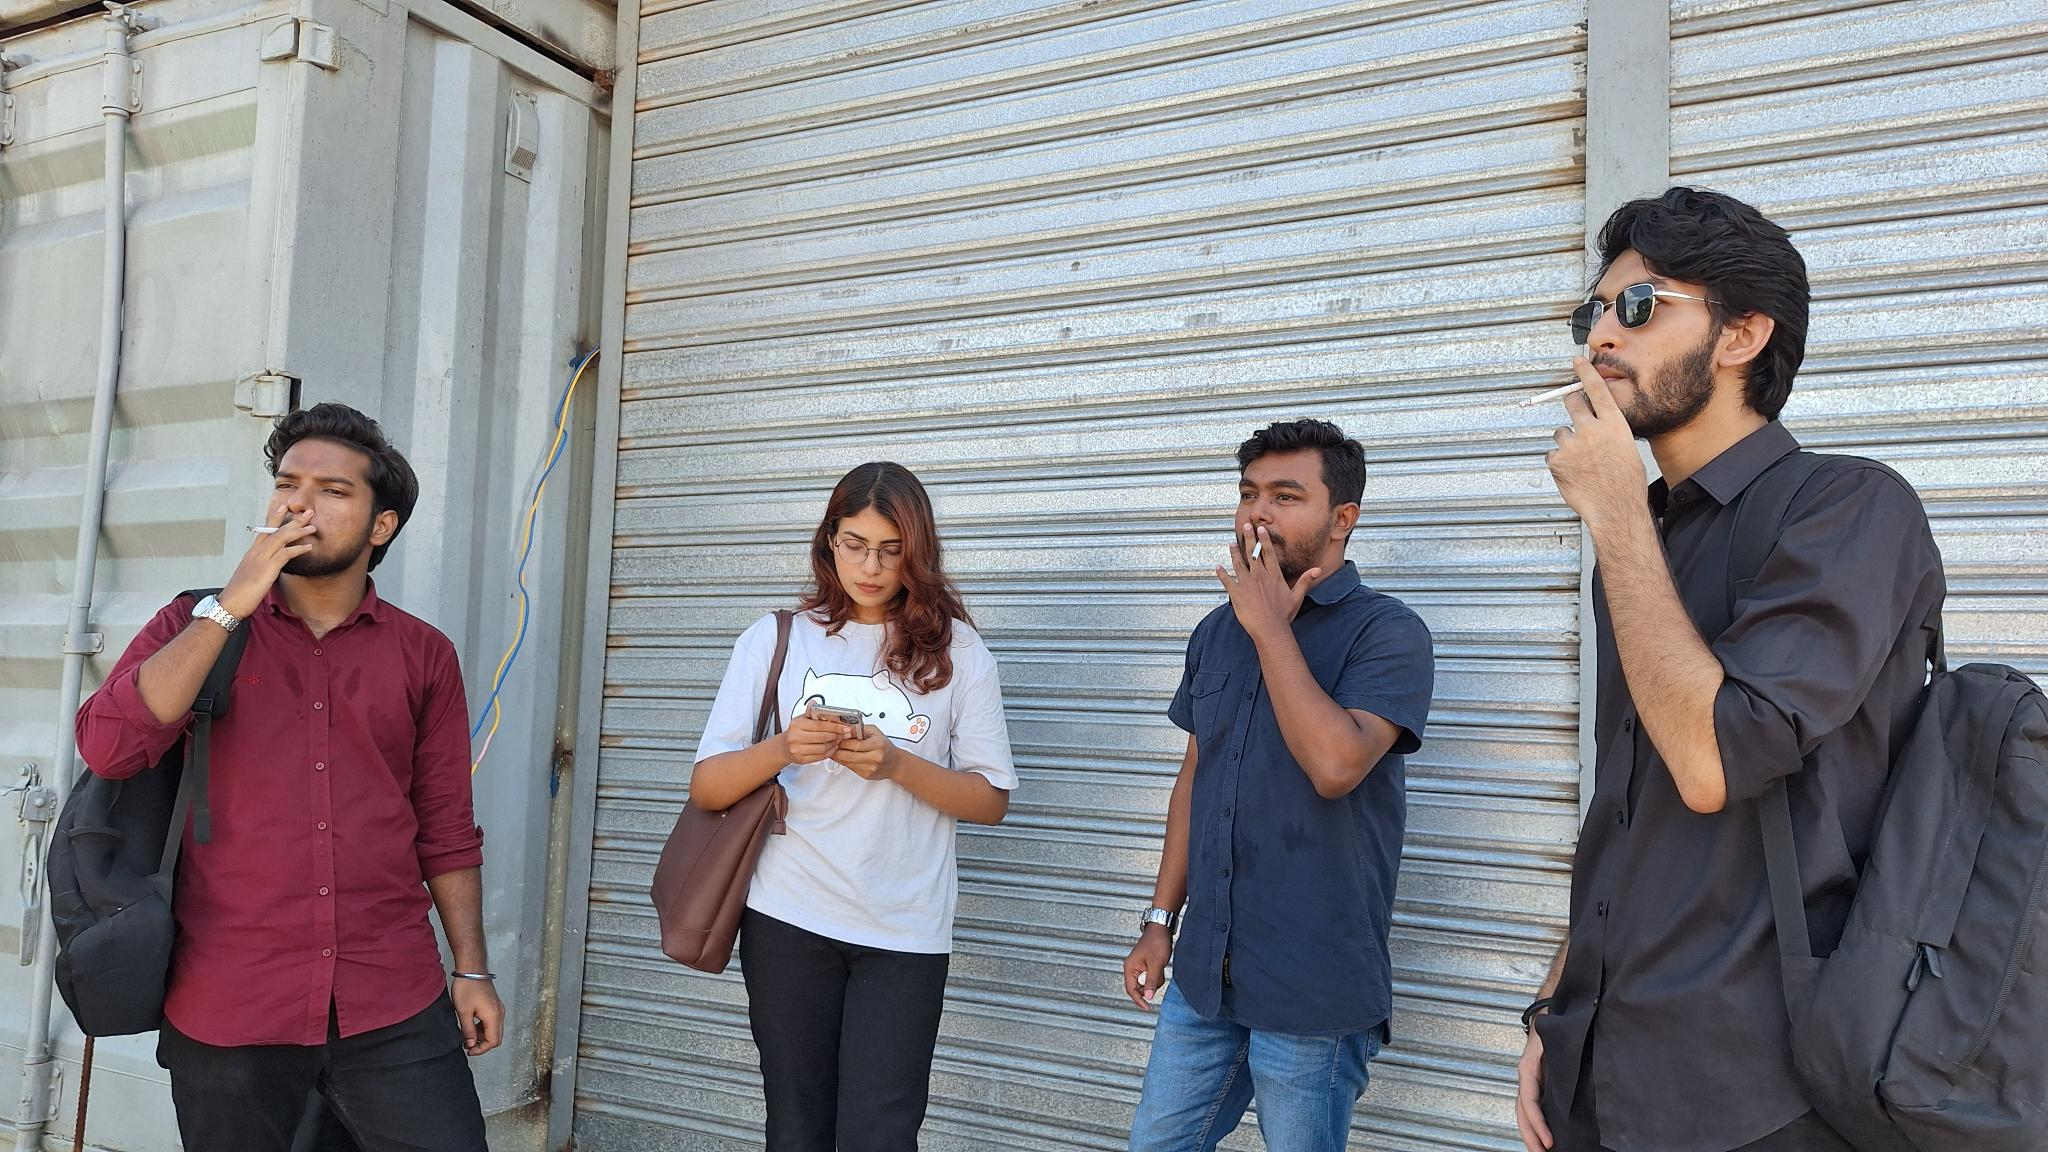cigarette: (1516, 380, 1585, 411), (243, 523, 280, 536), (1249, 539, 1263, 564)
nonSmoker: (650, 460, 1020, 1152)
smoker: (1515, 186, 2048, 1152), (46, 402, 506, 1152), (1122, 419, 1435, 1152)
